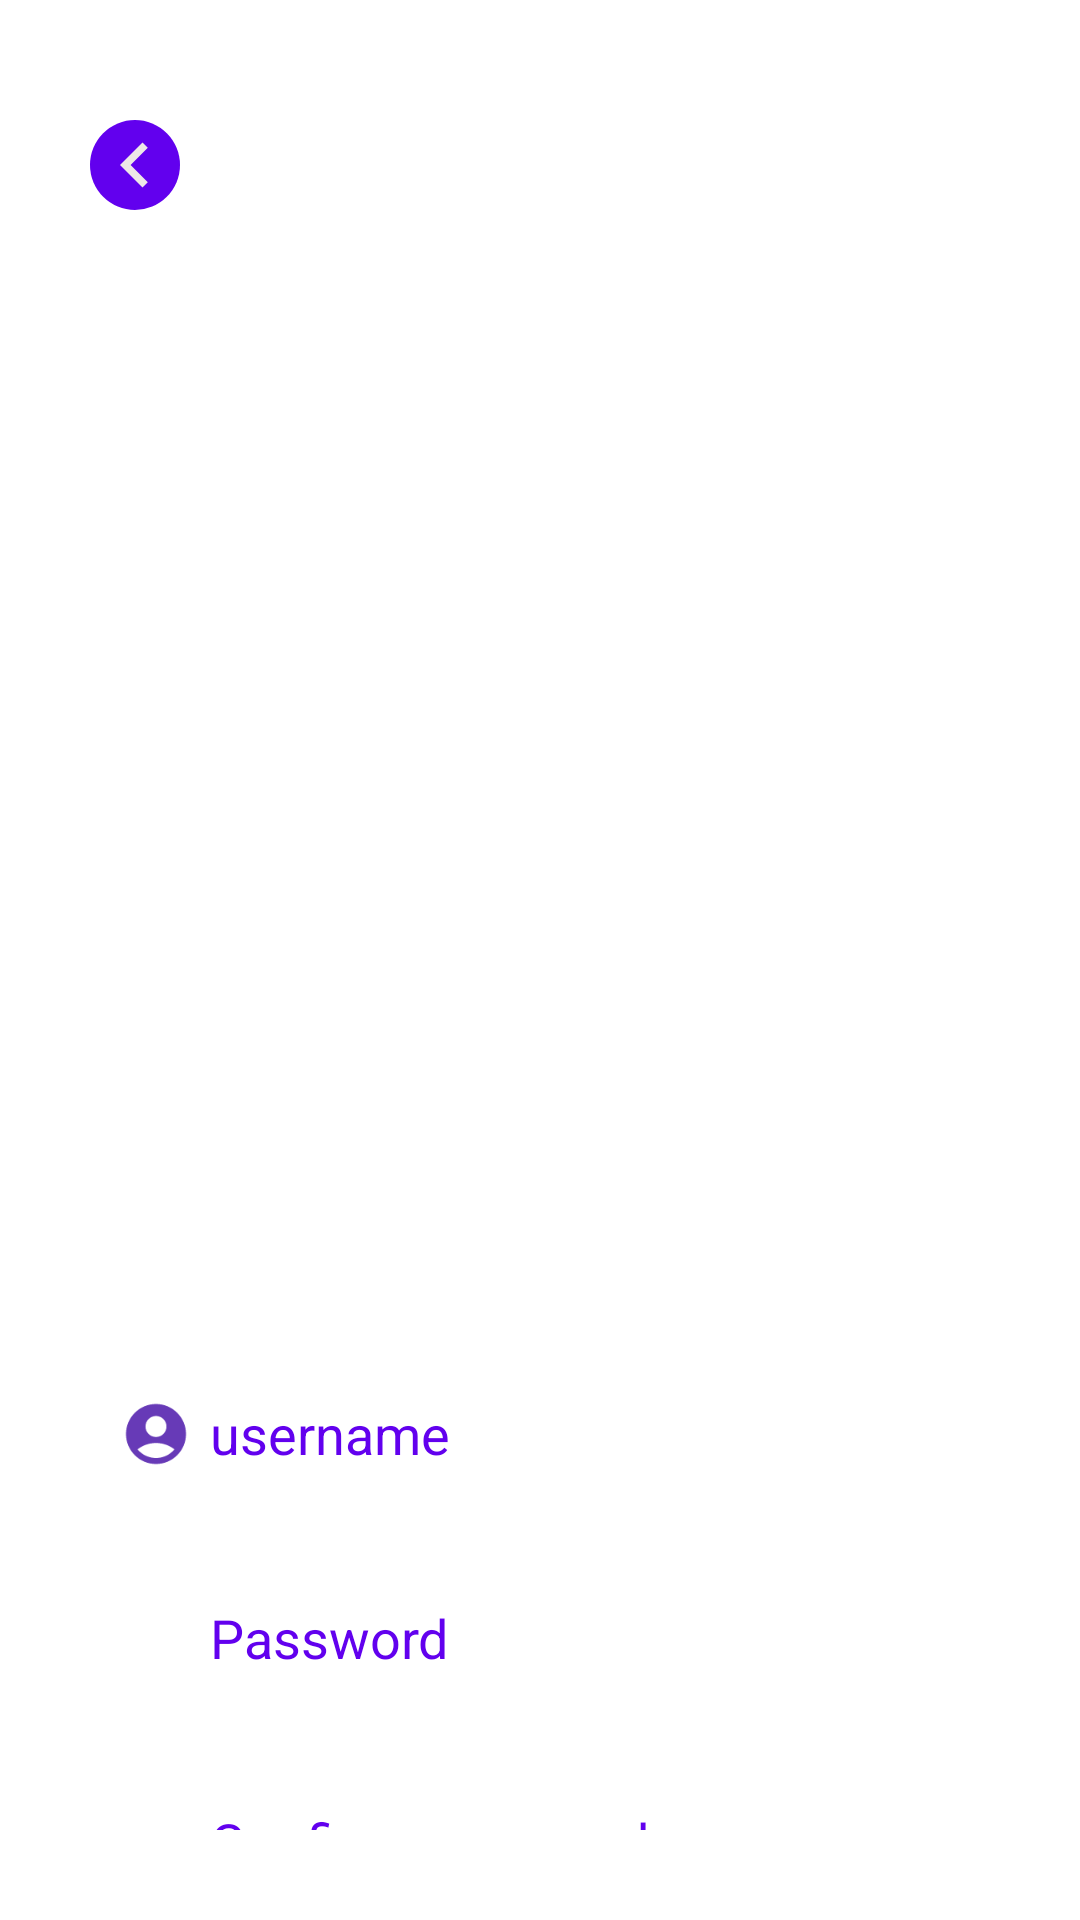

Where icons sit on this 1080px×1920px app screen, as (x1, y1, x2, y2):
back: (90, 120, 180, 210)
